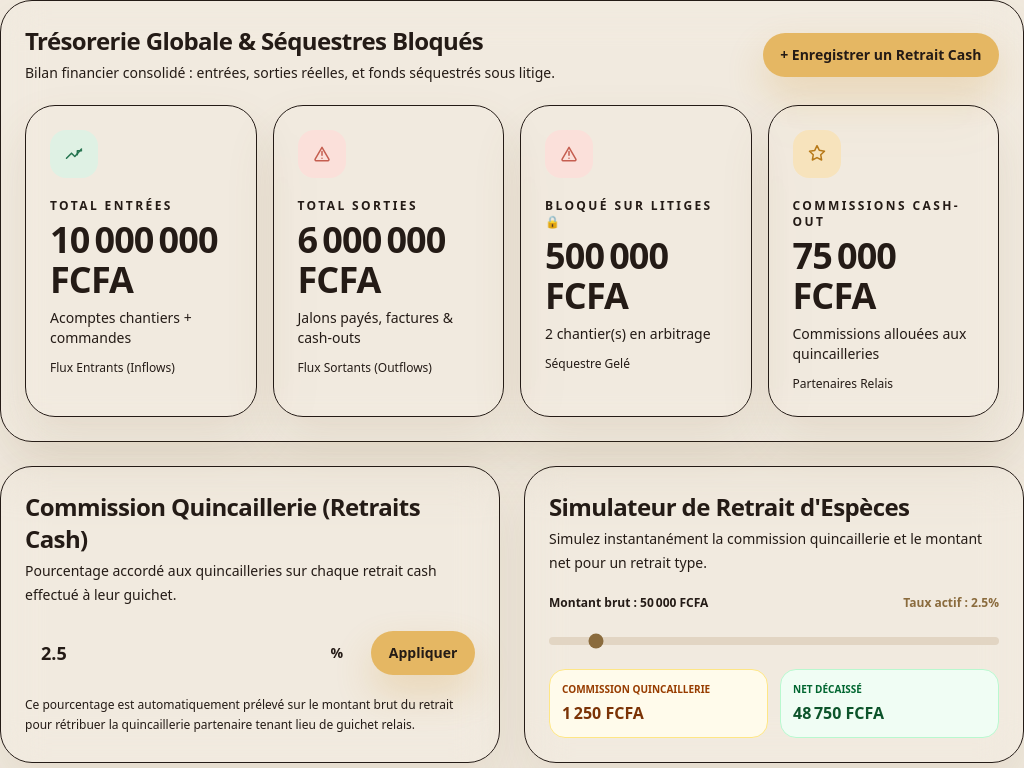
Test: CashoutQuincaillerieSection › refuse un taux de commission invalide sans appeler le backend
Replace the text in the number field with placeholder "Ex: 2.5" with "150" at {"x": 192, "y": 653}, box [25,627,359,679]
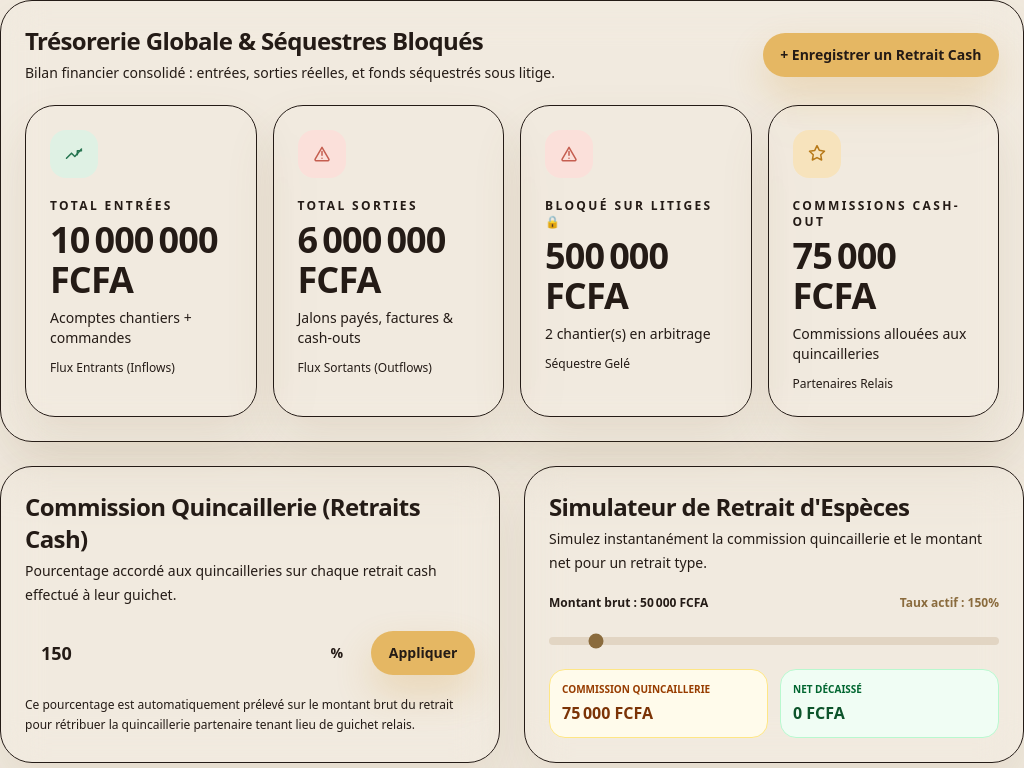
Submit the form with placeholder "Ex: 2.5", box [25,627,475,734]
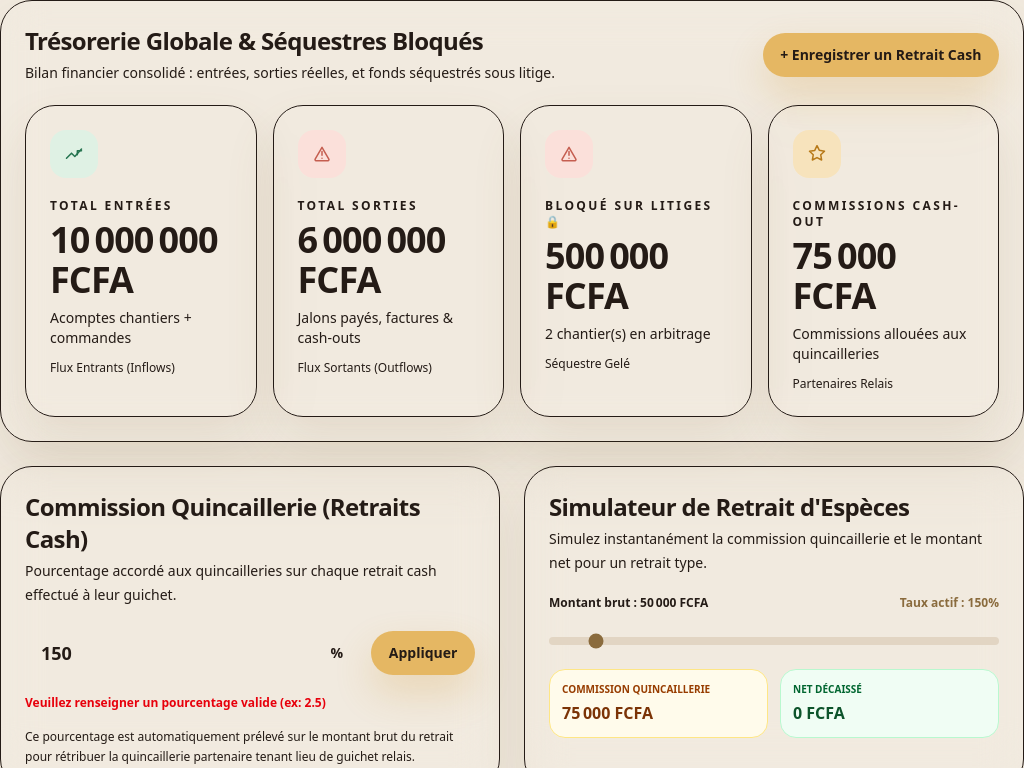
Result: the message shows "Veuillez renseigner un pourcentage valide" at [25,694,326,711]
